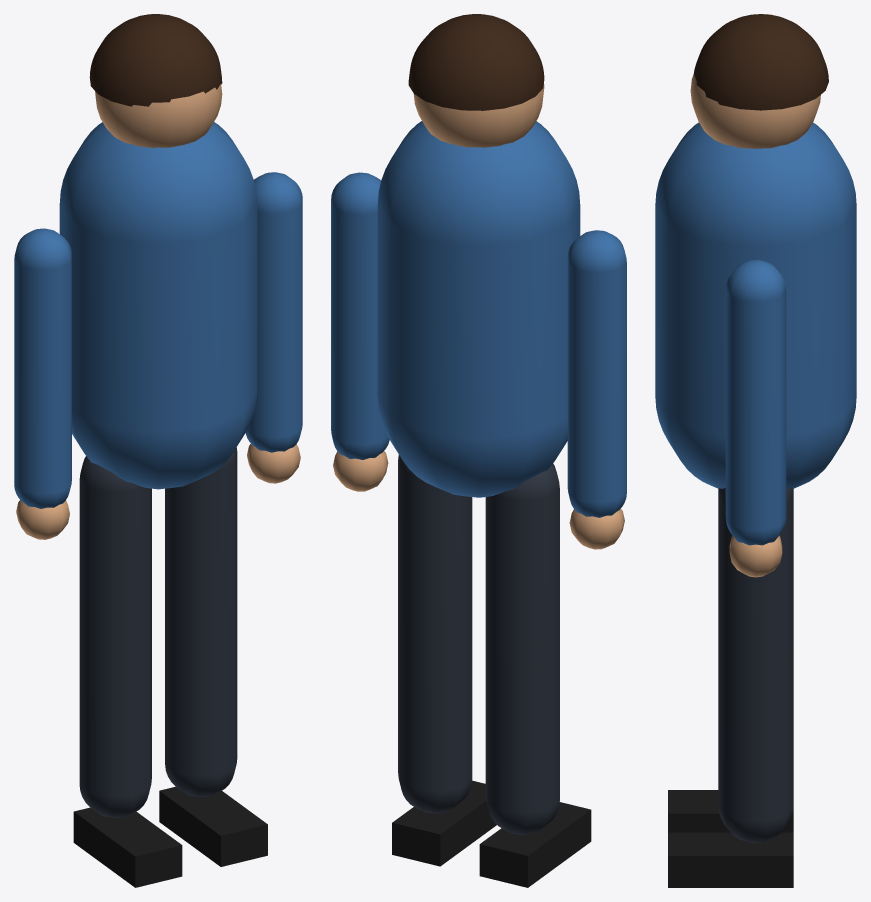
Rendered from resident.glb.
3 views of the same model, side by side, from view 1: azimuth 30°, elevation 25°; view 2: azimuth 150°, elevation 25°; view 3: azimuth 270°, elevation 25° (orthographic). The views are drawn at different scales.
Visible parts, largest first — view 1: resident; view 2: resident; view 3: resident.
Part boxes in pixels (left/top/right/bottom): resident: left=14, top=14, right=302, bottom=887; resident: left=331, top=14, right=626, bottom=887; resident: left=655, top=14, right=856, bottom=887.
Size of the model in its own units: 0.6541 by 1.83 by 0.4.
